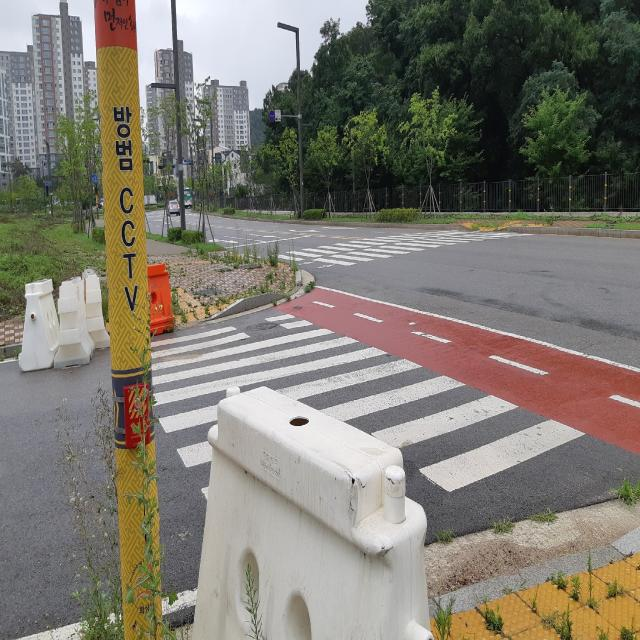횡단보도: (150, 313, 588, 503)
